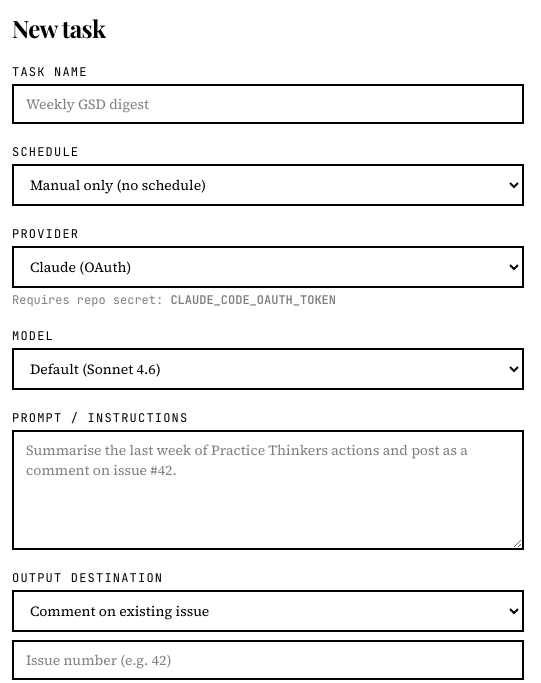
Test: TaskForm › shows a preview-unavailable note for valid dom/month-specific crons
Select "Custom cron…" in the dropdown labelled "Schedule" at (268, 185), box [12,164,524,206]
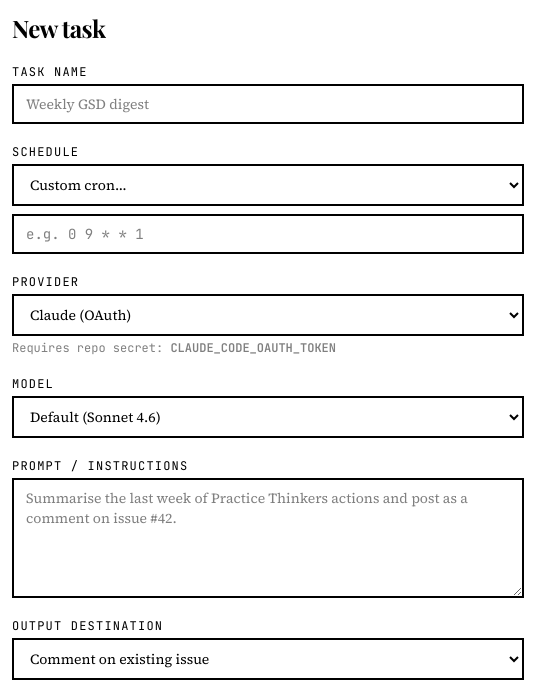
Type "0 8 15 * *" into the field with placeholder "e.g. 0 9 * * 1" at (268, 234), box [12,214,524,254]
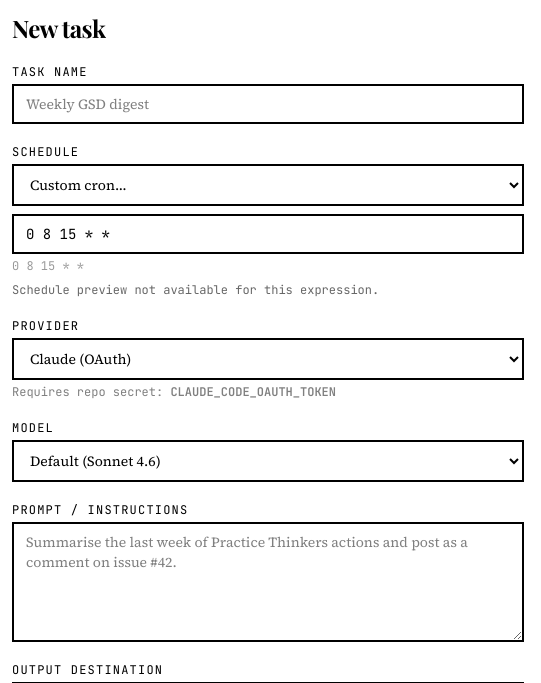
Expected: the text "Schedule preview not available for this expression." is shown, [12,282,379,298]
